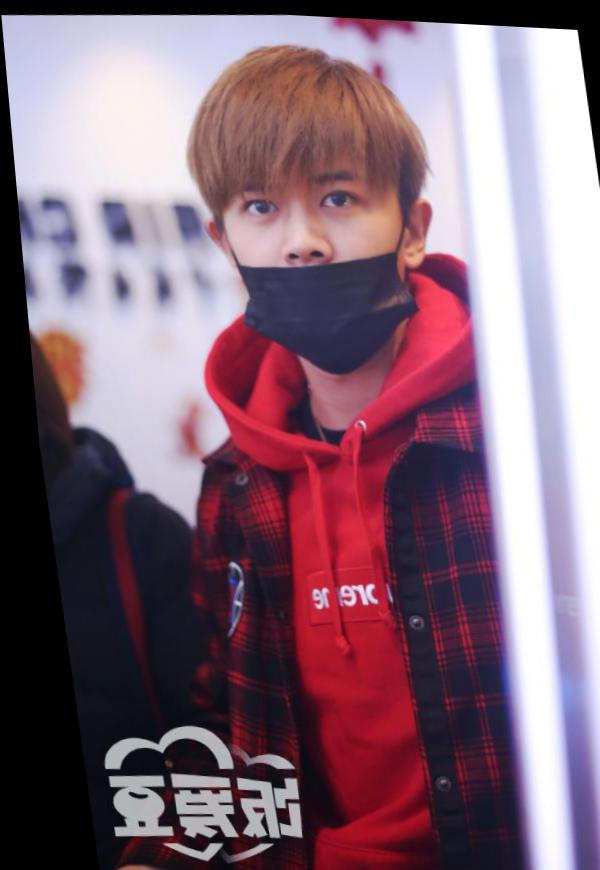WRONG: (218, 147, 422, 376)
